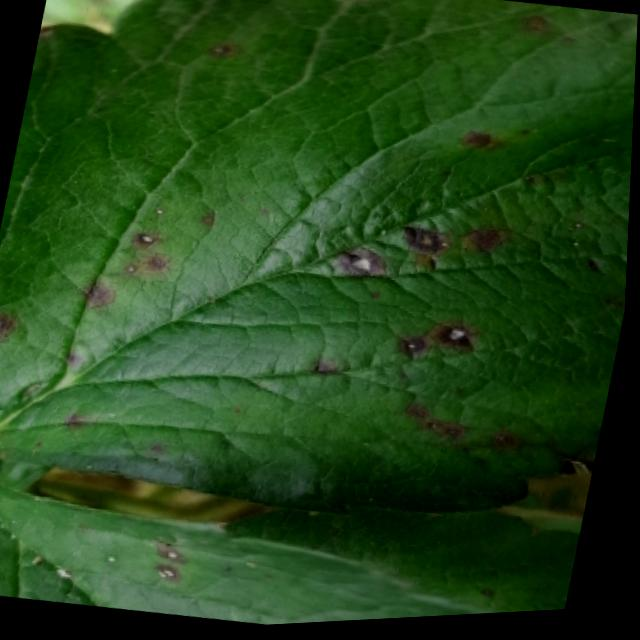Leaf Spot: (0, 0, 638, 522), (0, 480, 498, 628), (227, 509, 586, 619)
